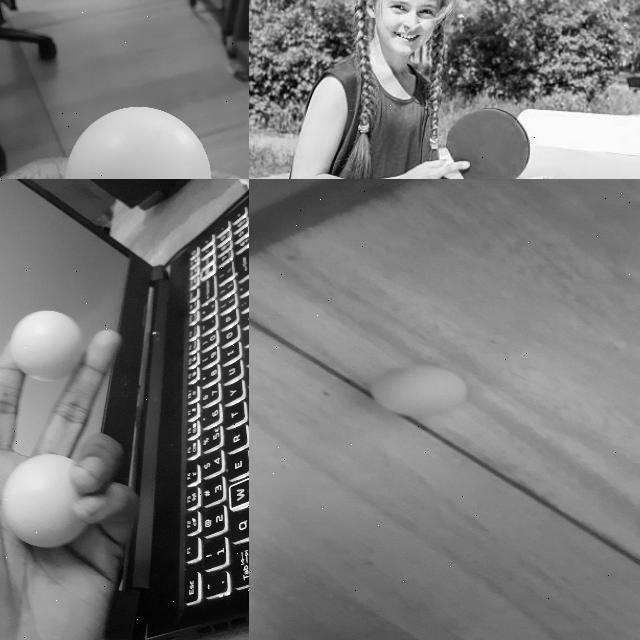ping-pong-ball: (65, 103, 213, 178), (5, 454, 84, 548), (10, 312, 82, 378), (372, 364, 465, 414)
